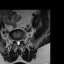CCS_normal: (17, 39, 19, 46)
LFS_stenosis: (20, 37, 22, 42)
LLS_normal: (19, 38, 20, 45)
RFS_severe_stenosis: (14, 37, 16, 42)
RLS_normal: (16, 38, 17, 45)
